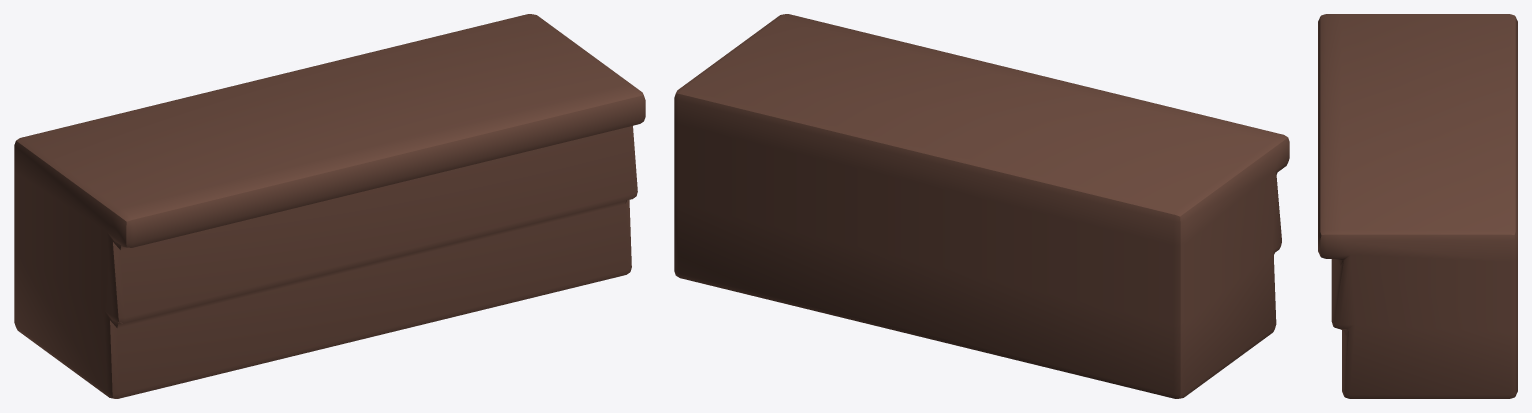
File: Drawer_lowpoly.fbx
The picture shows the model from 3 angles, left to right: view 1: azimuth 30°, elevation 25°; view 2: azimuth 150°, elevation 25°; view 3: azimuth 270°, elevation 25°; orthographic projection. The views are drawn at different scales.
Parts seen in each view (by area): view 1: Drawer; view 2: Drawer; view 3: Drawer.
Part boxes in pixels (x1,y1,x2,y2): Drawer: [14, 14, 645, 398]; Drawer: [674, 14, 1289, 398]; Drawer: [1318, 14, 1517, 398].
Bounding box in the file's own units: 208 × 73.39 × 78.8.
